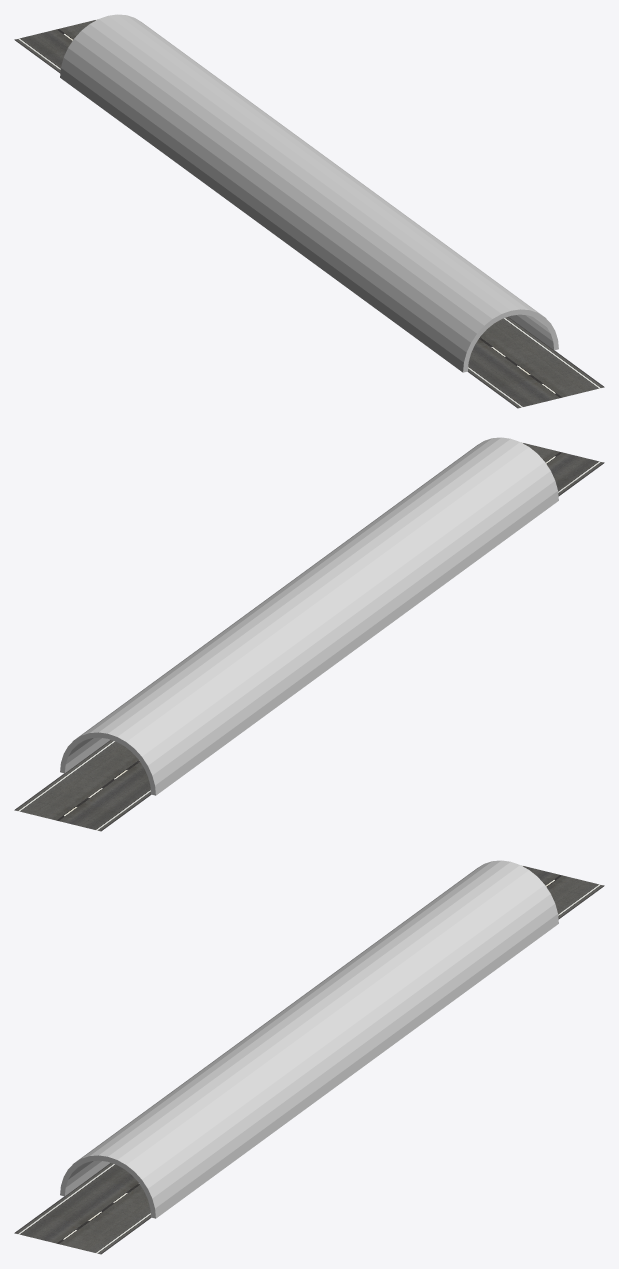
3 renders of one model, top to bottom at view 1: azimuth 30°, elevation 25°; view 2: azimuth 150°, elevation 25°; view 3: azimuth 330°, elevation 25°, orthographic.
Parts seen in each view (by area): view 1: Wall, Road; view 2: Wall, Road; view 3: Wall, Road.
Boxes of the visible parts, box(x1,y1,x2,y2) form: Wall: box(60, 14, 558, 372); Road: box(14, 19, 604, 408); Wall: box(60, 437, 558, 795); Road: box(14, 442, 604, 831); Wall: box(60, 860, 558, 1218); Road: box(14, 865, 604, 1254).
Bounding box in the file's own units: 5.5 × 2.75 × 50.
Materials: 4 (1 with a texture image).
